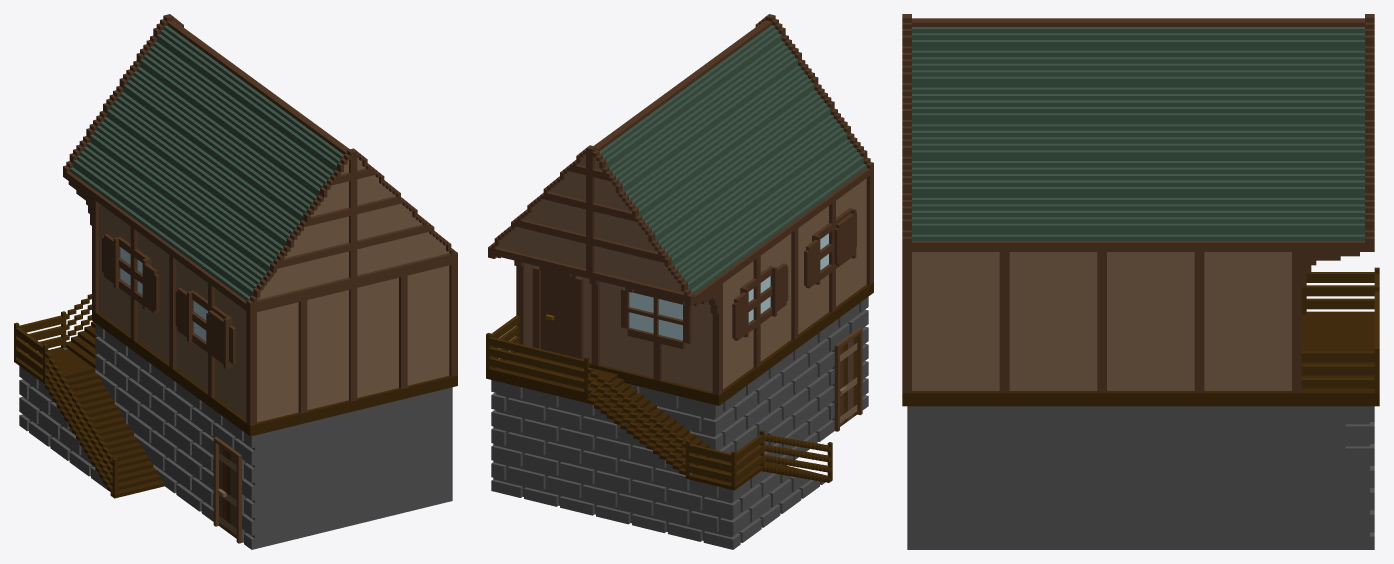
Rendered from Casa 03.obj.
3 renders of one model, left to right at view 1: azimuth 30°, elevation 25°; view 2: azimuth 150°, elevation 25°; view 3: azimuth 270°, elevation 25°, orthographic. The views are drawn at different scales.
Size of the model in its own units: 7.6 by 10.7 by 9.8.
1 material, 1 textured.
